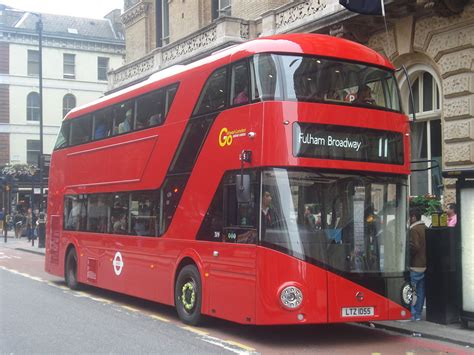bus: (46, 47, 414, 325)
